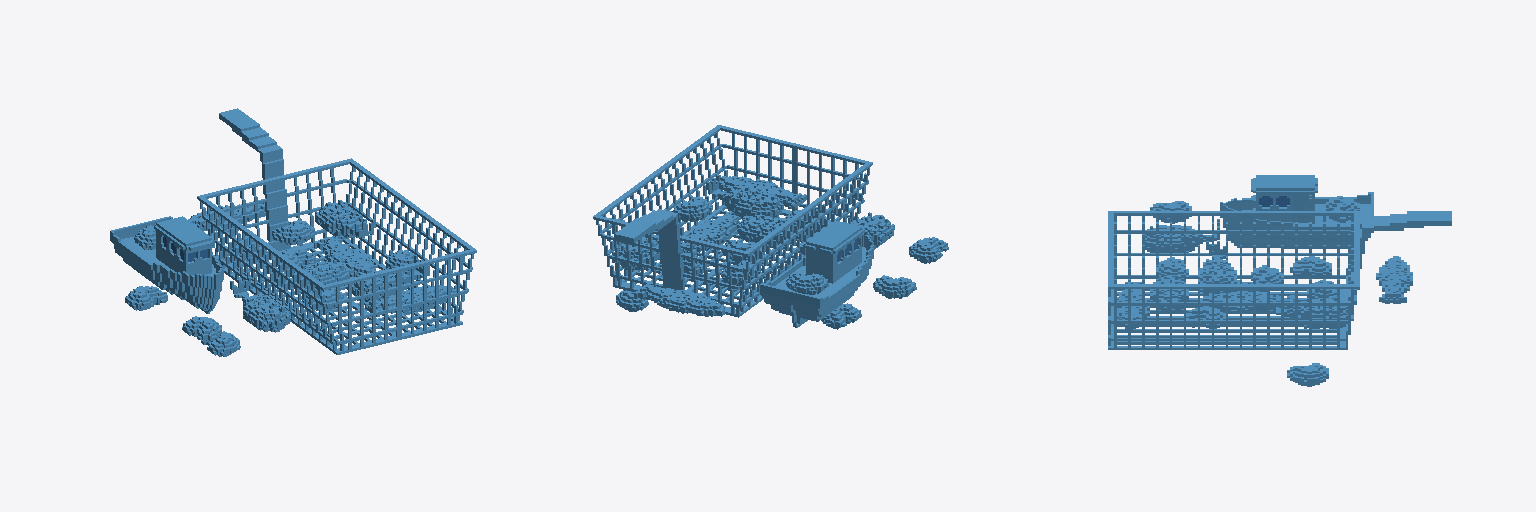
3 views of the same model, side by side, from view 1: azimuth 30°, elevation 25°; view 2: azimuth 150°, elevation 25°; view 3: azimuth 270°, elevation 25° (orthographic).
Visible parts, largest first — view 1: fried_fish-1; view 2: fried_fish-1; view 3: fried_fish-1.
Boxes of the visible parts, x1,y1,x2,y2 form: fried_fish-1: [110, 108, 476, 356]; fried_fish-1: [593, 125, 948, 329]; fried_fish-1: [1108, 175, 1451, 386].
Bounding box in the file's own units: 112 × 54 × 123.
Materials: 1 (1 with a texture image).